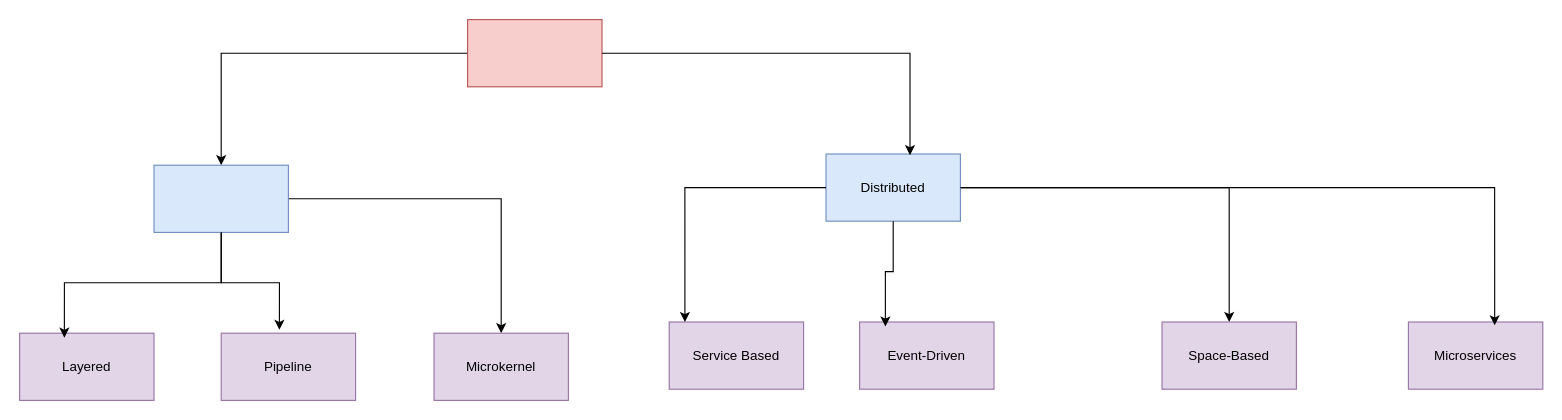
Image size: 1562x420. Some labels were removed from this diagram. The shapes that lost their labels are listed below. From the top down, each one's box as (x1, y1, x2, y2) in pixels, then its label:
(466, 18, 602, 87): Architecture Styles
(153, 164, 288, 232): Monolithic
